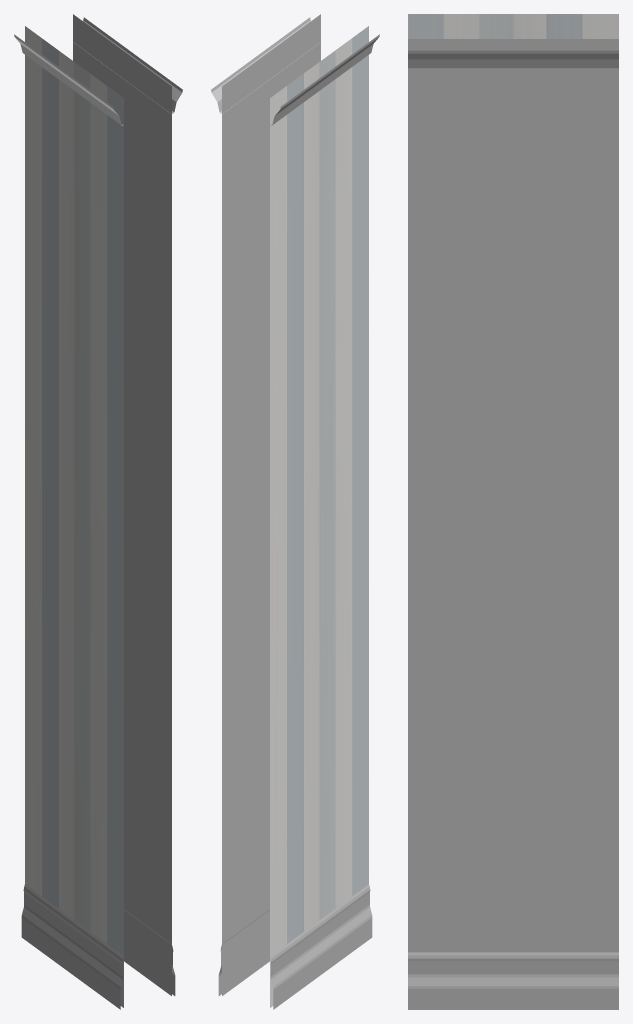
The model's file is Wall_A_Inside_100.fbx.
3 renders of one model, left to right at view 1: azimuth 30°, elevation 25°; view 2: azimuth 150°, elevation 25°; view 3: azimuth 270°, elevation 25°, orthographic. The views are drawn at different scales.
Visible parts, largest first — view 1: Wall_A_Inside_100; view 2: Wall_A_Inside_100; view 3: Wall_A_Inside_100.
Part boxes in pixels (box(x1,y1,x2,y2)): Wall_A_Inside_100: box(14, 14, 182, 1009); Wall_A_Inside_100: box(211, 14, 379, 1009); Wall_A_Inside_100: box(408, 14, 618, 1009).
Bounding box in the file's own units: 20.33 × 50 × 253.
